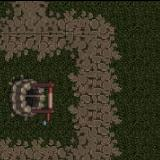Hide: (0, 60, 69, 134)
